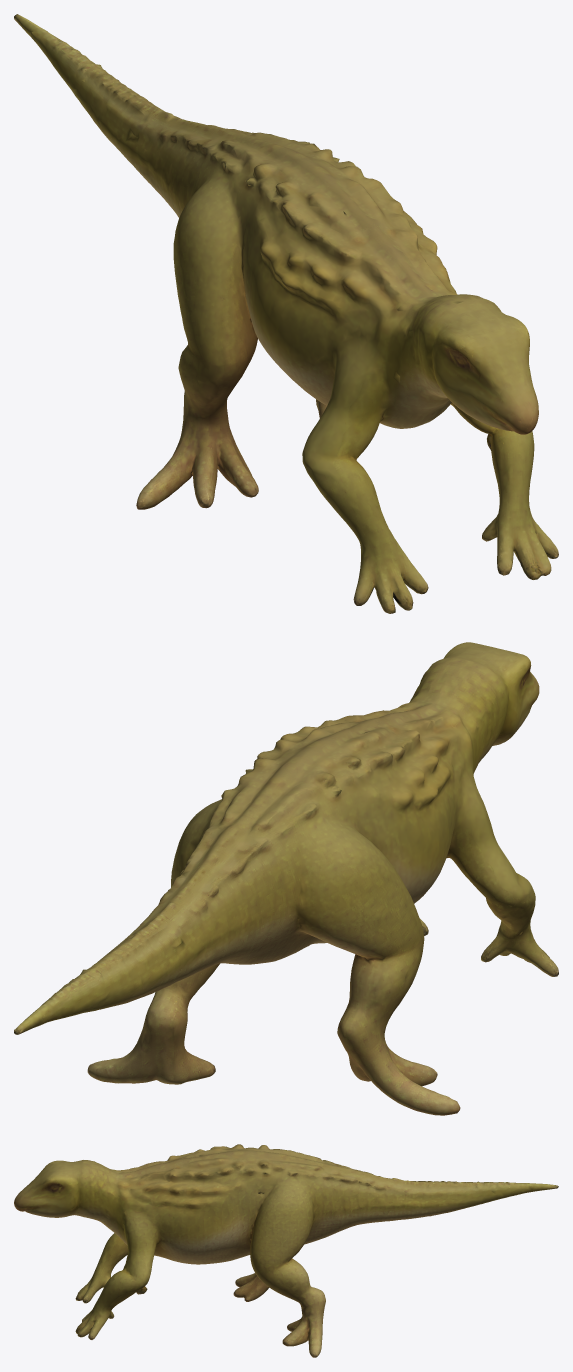
3 views of the same model, one above another, from view 1: azimuth 30°, elevation 25°; view 2: azimuth 150°, elevation 25°; view 3: azimuth 270°, elevation 25° (orthographic). The views are drawn at different scales.
Parts seen in each view (by area): view 1: geometry_0; view 2: geometry_0; view 3: geometry_0.
Boxes of the visible parts, bbox=[...] form: geometry_0: bbox=[14, 14, 558, 613]; geometry_0: bbox=[14, 642, 558, 1115]; geometry_0: bbox=[14, 1144, 558, 1357].
Bounding box in the file's own units: 0.4289 × 0.4084 × 1.2.
1 material, 1 textured.
